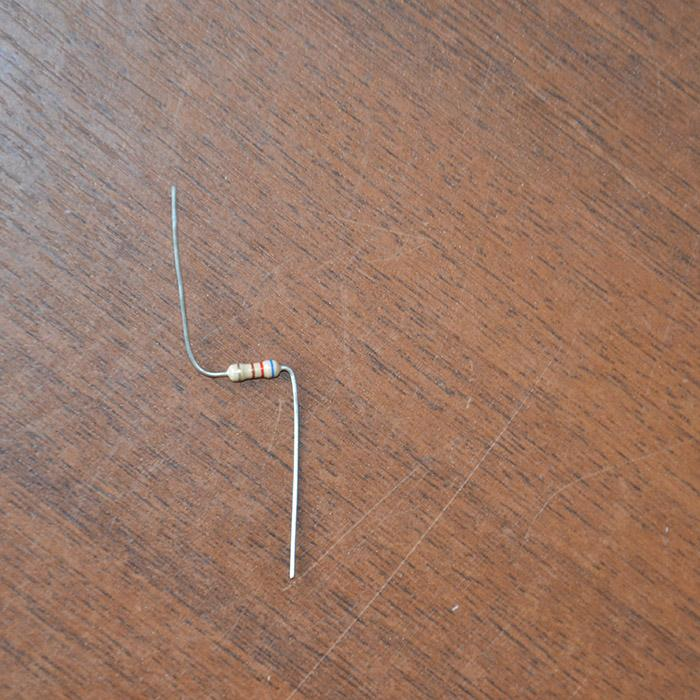resistor: (226, 358, 280, 382)
